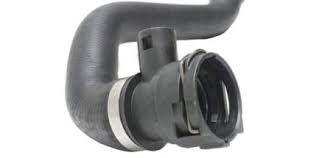radiator_hose: (69, 3, 246, 152)
